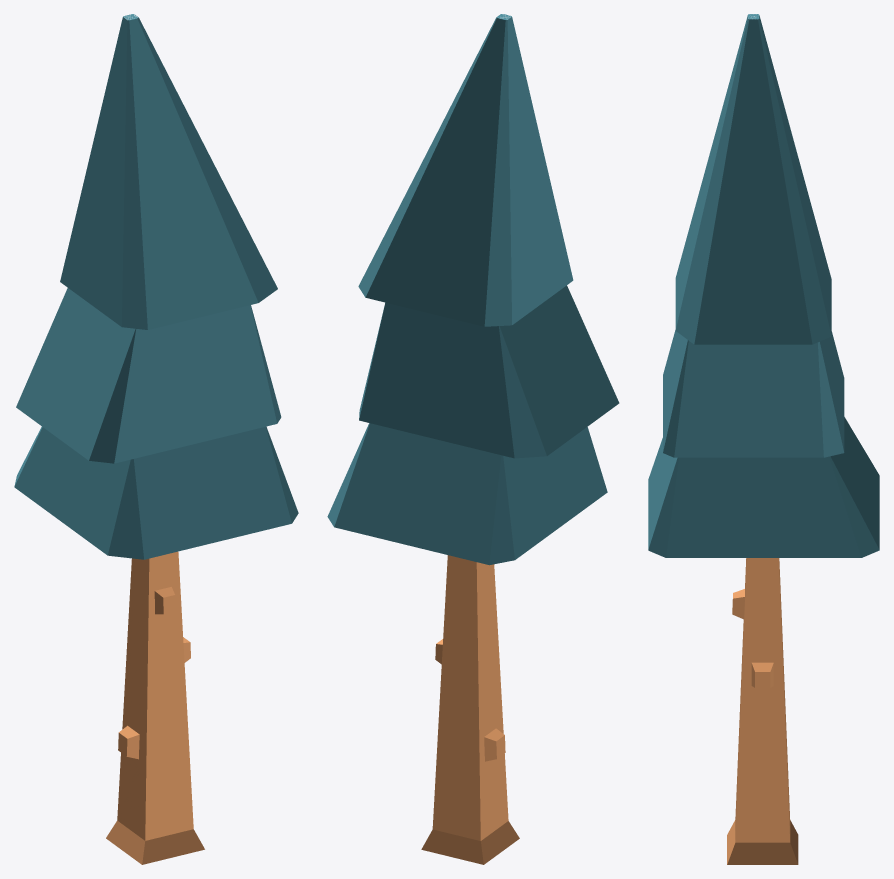
Rendered from tree_pine_shortSquare_detailed.obj.
3 renders of one model, left to right at view 1: azimuth 30°, elevation 25°; view 2: azimuth 150°, elevation 25°; view 3: azimuth 270°, elevation 25°, orthographic. The views are drawn at different scales.
Parts seen in each view (by area): view 1: tree_pine_shortSquare_detailed; view 2: tree_pine_shortSquare_detailed; view 3: tree_pine_shortSquare_detailed.
Boxes of the visible parts, box(x1,y1,x2,y2) form: tree_pine_shortSquare_detailed: box(14, 14, 298, 864); tree_pine_shortSquare_detailed: box(327, 14, 619, 864); tree_pine_shortSquare_detailed: box(648, 14, 879, 864).
Bounding box in the file's own units: 3.86 × 15.3 × 3.92.
